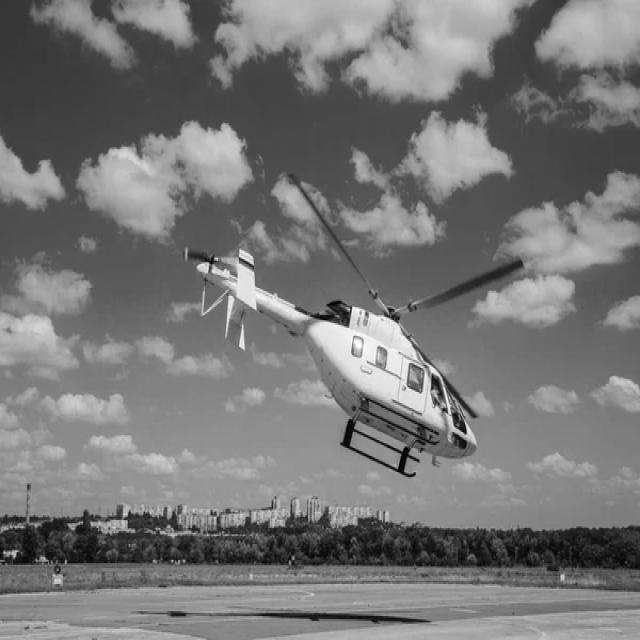Helicopter: (183, 174, 524, 478)
